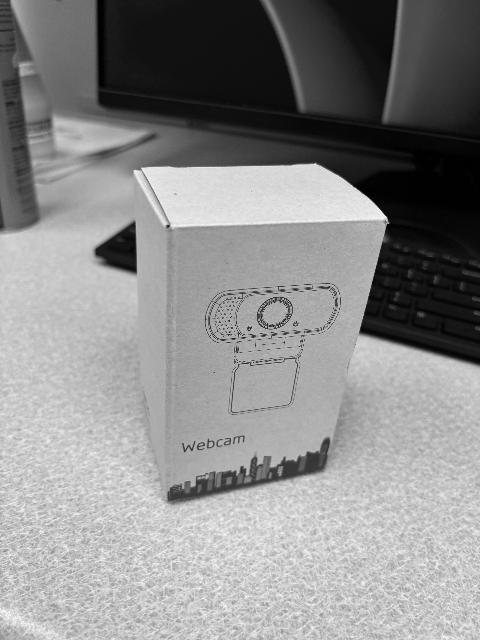CameraBox1: (132, 164, 387, 506)
